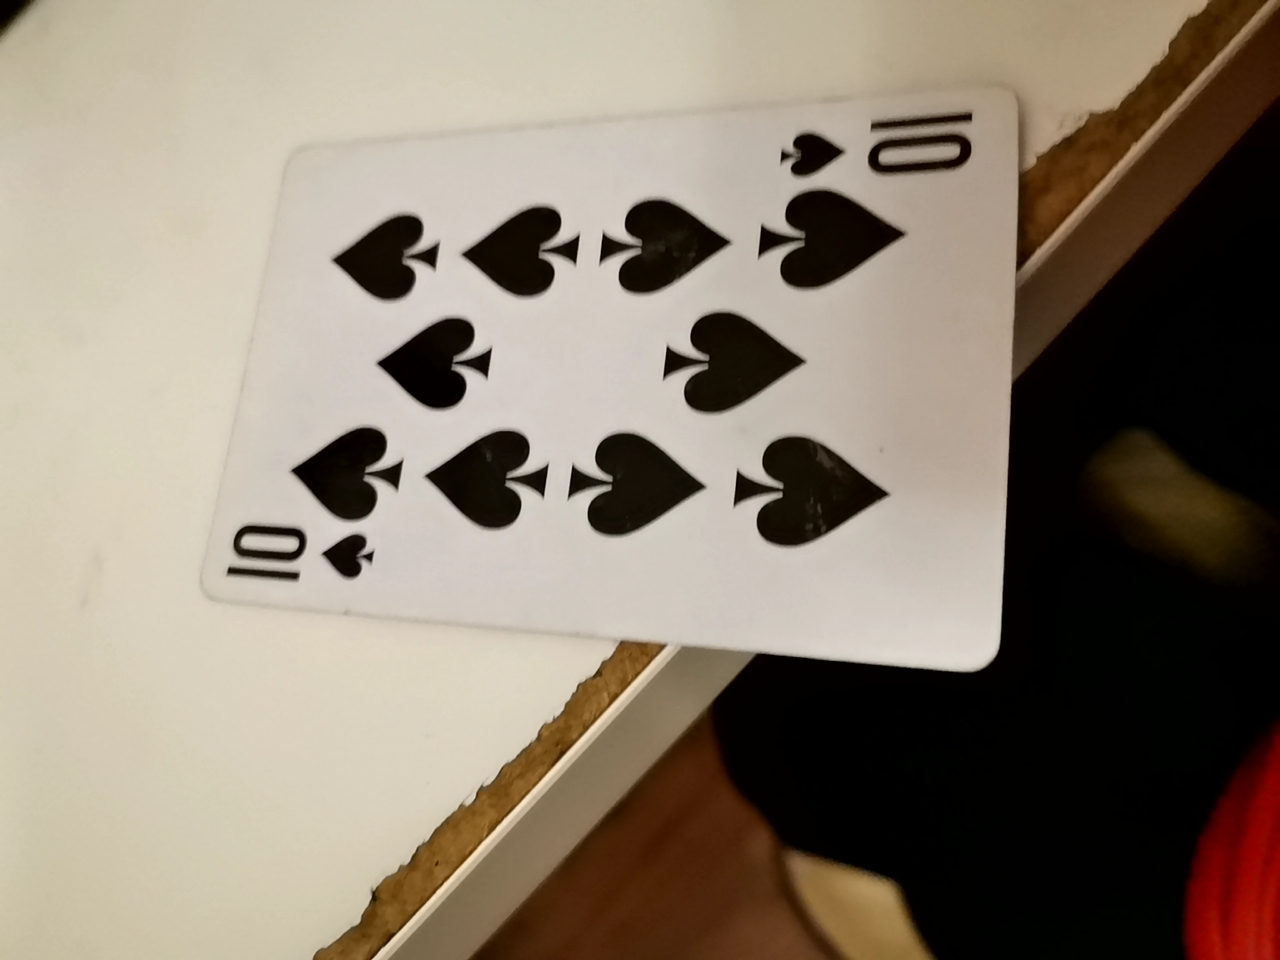ht 10: (210, 53, 1021, 662)
